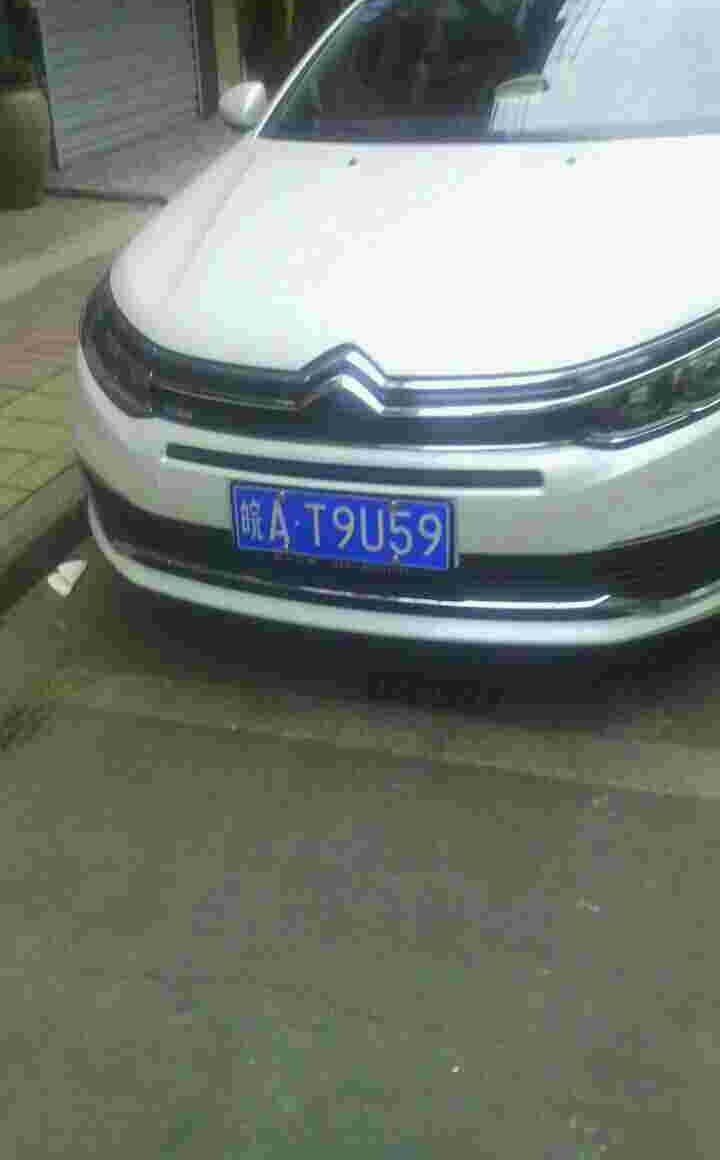license_plate: (229, 482, 453, 581)
